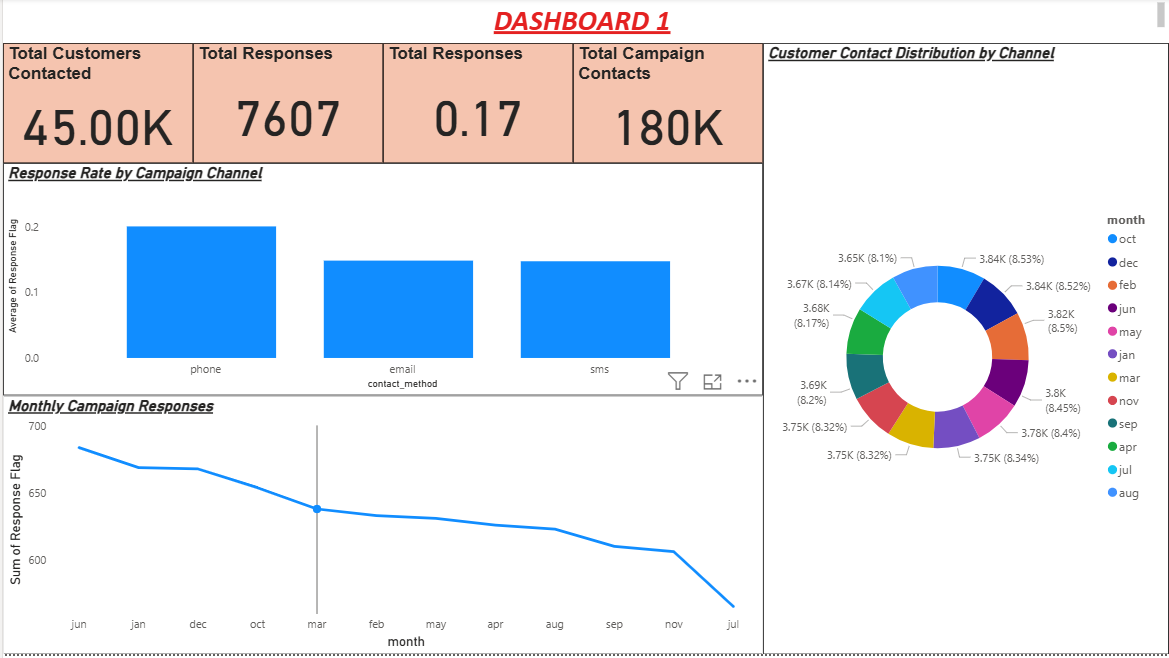

The page's visual inventory and layout, read from the dashboard file:
{"tool":"powerbi","page":{"name":"Dashboard 1","canvas":[1280,720],"ordinal":0},"visuals":[{"type":"textbox","box":[0,0,1280.3,48.9],"z":0},{"type":"card","title":"Total Customers Contacted","fields":{"Values":["CountNonNull(campaign_data.customer_id)"]},"box":[0,49.4,208.6,131.7],"z":1000},{"type":"card","title":"Total Responses","fields":{"Values":["Sum(campaign_data.Response Flag)"]},"box":[208.6,49.4,208.6,131.7],"z":2000},{"type":"card","title":"Total Responses","fields":{"Values":["Avg(campaign_data.Response Flag)"]},"box":[417.2,49.4,208.6,131.7],"z":3000},{"type":"card","title":"Total Campaign Contacts","fields":{"Values":["Sum(campaign_data.campaign_contacts)"]},"box":[625.7,49.4,208.6,131.7],"z":4000},{"type":"clusteredColumnChart","title":"Response Rate by Campaign Channel","fields":{"Category":["campaign_data.contact_method"],"Y":["Avg(campaign_data.Response Flag)"]},"box":[0,181.1,834.3,255.2],"z":5000},{"type":"lineChart","title":"Monthly Campaign Responses","fields":{"Category":["campaign_data.month"],"Y":["Sum(campaign_data.Response Flag)"]},"box":[0,436.4,834.3,284],"z":6000},{"type":"donutChart","title":"Customer Contact Distribution by Channel","fields":{"Category":["campaign_data.month"],"Y":["CountNonNull(campaign_data.customer_id)"]},"box":[834.3,49.4,446,671],"z":7000}]}

Visuals, with their boxes in screenshot pixels (x1, y1, x2, y2), scaled from the page's 1280x720 canvas onto the 1169x658 screenshot:
textbox: select_region(0, 0, 1168, 45)
"Total Customers Contacted" card: select_region(0, 45, 191, 166)
"Total Responses" card: select_region(191, 45, 381, 166)
"Total Responses" card: select_region(381, 45, 572, 166)
"Total Campaign Contacts" card: select_region(571, 45, 762, 166)
"Response Rate by Campaign Channel" clusteredColumnChart: select_region(0, 166, 762, 399)
"Monthly Campaign Responses" lineChart: select_region(0, 399, 762, 657)
"Customer Contact Distribution by Channel" donutChart: select_region(762, 45, 1168, 657)
